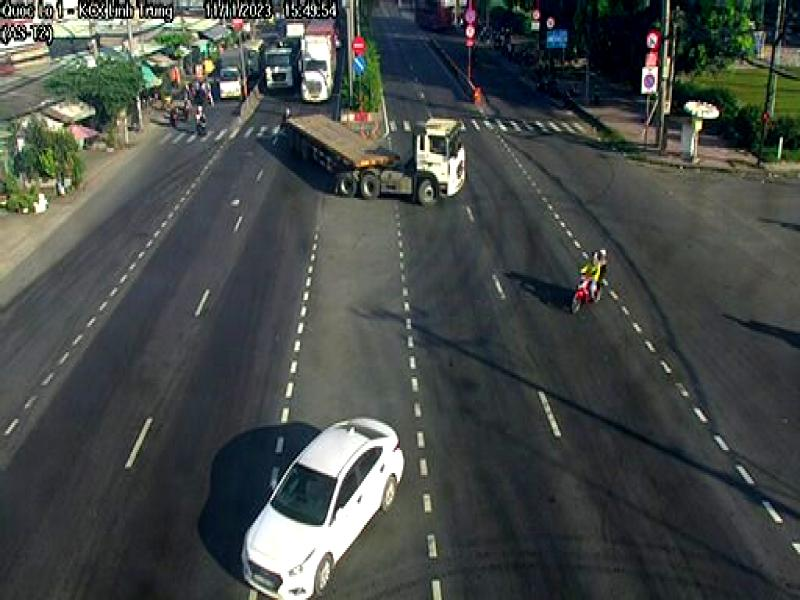car: (240, 416, 406, 600)
truck: (280, 107, 471, 208), (299, 15, 340, 106), (260, 36, 298, 98)
